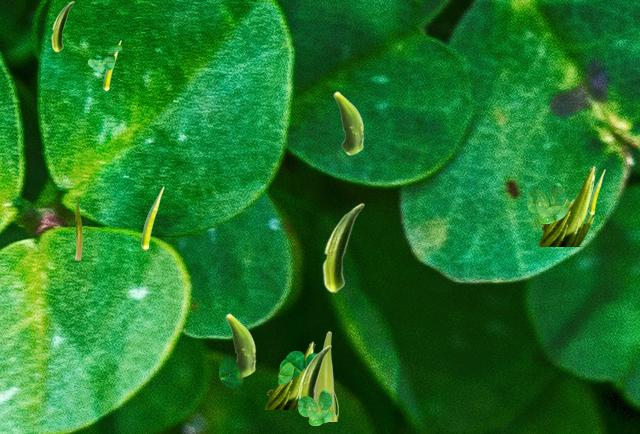okra: (537, 165, 596, 245), (322, 203, 363, 292), (264, 341, 314, 408), (315, 331, 337, 420), (225, 313, 255, 376), (333, 91, 363, 154), (298, 345, 330, 398), (141, 186, 163, 249), (51, 1, 73, 51), (103, 40, 120, 90), (589, 169, 604, 214), (75, 196, 81, 259)
